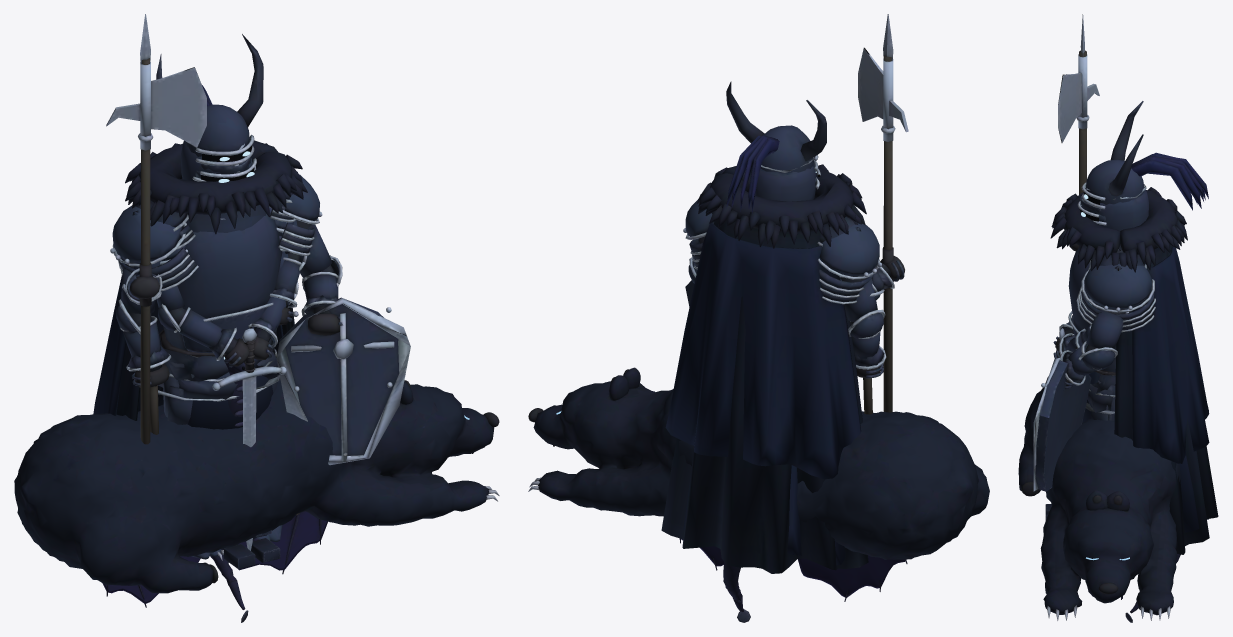
File: watch.glb
3 renders of one model, left to right at view 1: azimuth 30°, elevation 25°; view 2: azimuth 150°, elevation 25°; view 3: azimuth 270°, elevation 25°, orthographic. The views are drawn at different scales.
Visible parts, largest first — view 1: bramble-body, anvil-body, harrow-body, sable-body, vesper-wing1, vesper-body, block-body; view 2: anvil-body, bramble-body, harrow-body, sable-body, vesper-wing-1, vesper-body; view 3: anvil-body, bramble-body, harrow-body, sable-body.
Part boxes in pixels (<box>): bramble-body: <box>14,380,499,593</box>; anvil-body: <box>93,140,410,559</box>; harrow-body: <box>106,14,307,556</box>; sable-body: <box>138,85,298,556</box>; vesper-wing1: <box>238,511,328,574</box>; vesper-body: <box>210,362,258,622</box>; block-body: <box>223,513,299,568</box>; anvil-body: <box>665,157,886,479</box>; bramble-body: <box>528,367,989,559</box>; harrow-body: <box>661,14,908,573</box>; sable-body: <box>683,135,845,565</box>; vesper-wing-1: <box>797,555,907,601</box>; vesper-body: <box>723,561,750,622</box>; anvil-body: <box>1033,184,1209,491</box>; bramble-body: <box>1018,376,1180,620</box>; harrow-body: <box>1050,14,1218,554</box>; sable-body: <box>1053,152,1208,532</box>.
Bounding box in the file's own units: 2.21 × 2.96 × 0.9627.
Materials: 11 (9 with a texture image).
